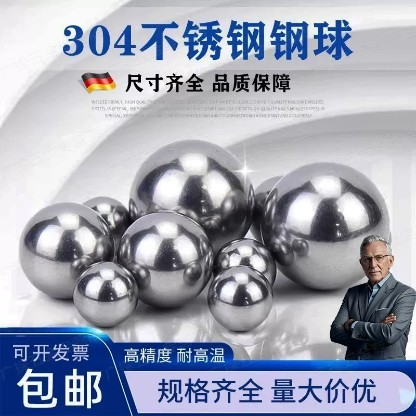ironball: (260, 161, 391, 290), (127, 138, 254, 254), (116, 210, 214, 308), (18, 201, 115, 299), (206, 264, 273, 331), (72, 260, 138, 327), (213, 237, 276, 288), (82, 196, 131, 252), (249, 175, 282, 244)
